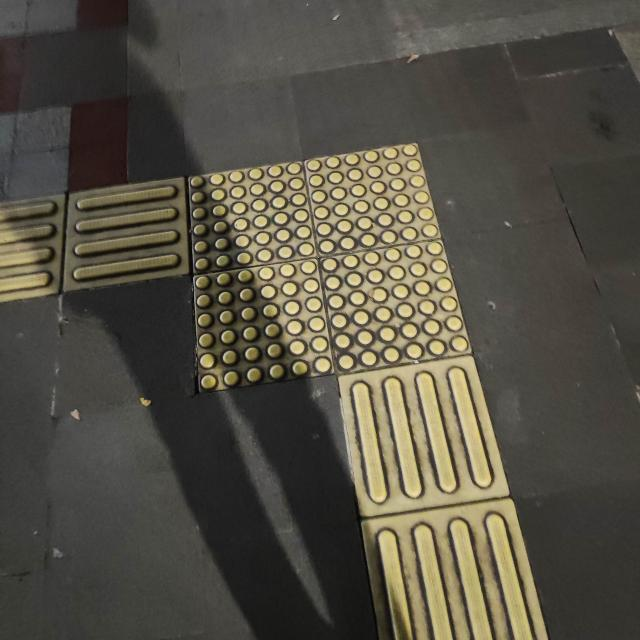kiri: (0, 149, 519, 394)
